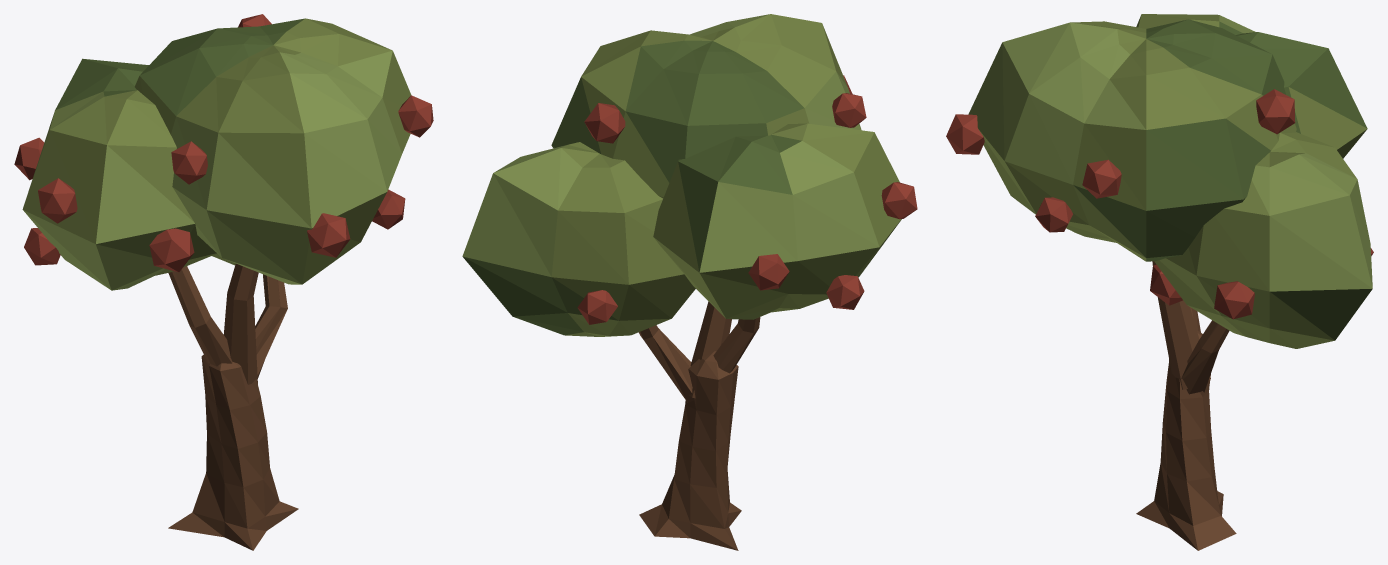
File: apple-tree-ef0ba0.glb
3 renders of one model, left to right at view 1: azimuth 30°, elevation 25°; view 2: azimuth 150°, elevation 25°; view 3: azimuth 270°, elevation 25°, orthographic. The views are drawn at different scales.
Parts seen in each view (by area): view 1: apple-tree-ef0ba0; view 2: apple-tree-ef0ba0; view 3: apple-tree-ef0ba0.
Part boxes in pixels (box(x1,y1,x2,y2)): apple-tree-ef0ba0: box(14, 14, 433, 550); apple-tree-ef0ba0: box(462, 14, 917, 550); apple-tree-ef0ba0: box(946, 14, 1373, 550).
Size of the model in its own units: 2.73 by 3.39 by 2.67.
